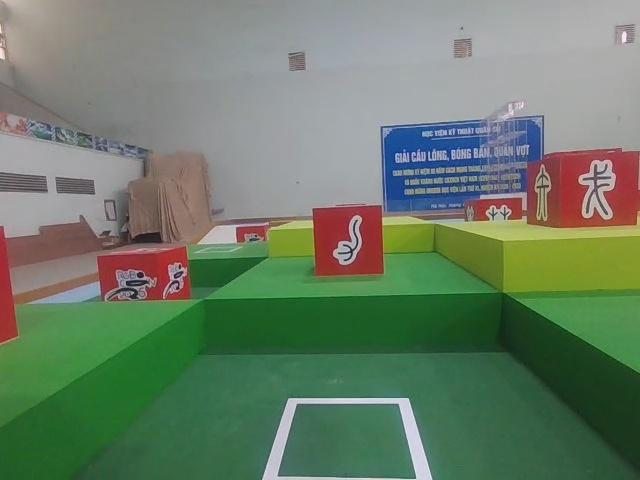R1: (99, 247, 189, 302)
R2 Fake: (525, 155, 638, 228)
R2 Real: (313, 203, 385, 278)
